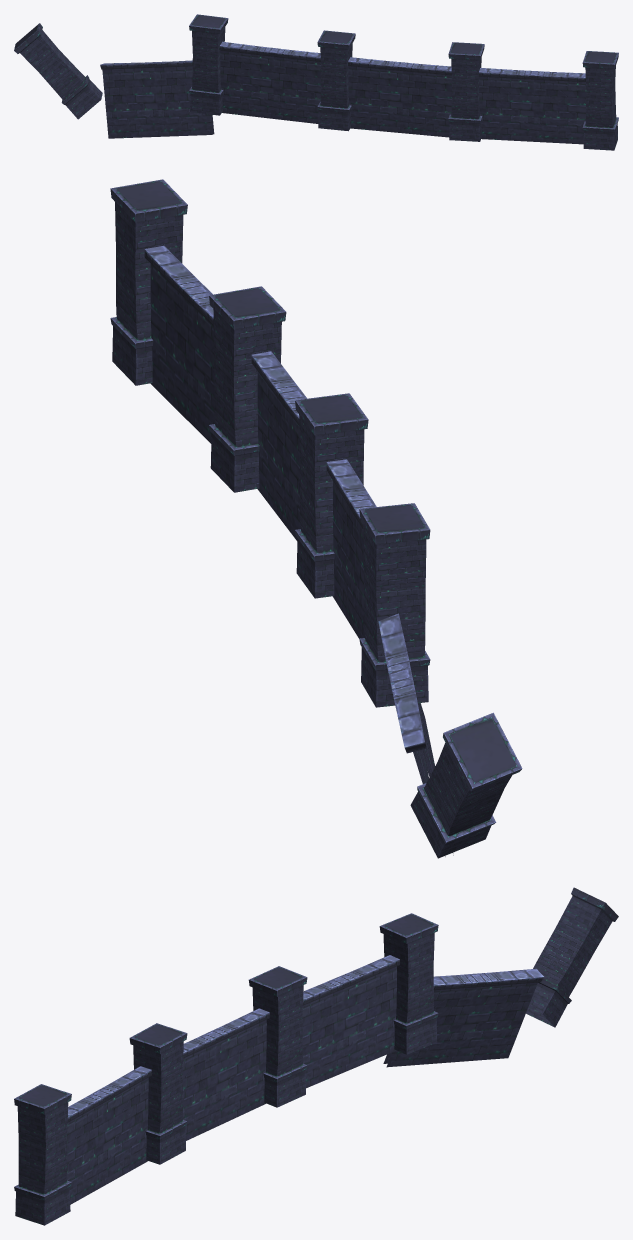
File: Area08_6.fbx
The picture shows the model from 3 angles, top to bottom: view 1: azimuth 30°, elevation 25°; view 2: azimuth 150°, elevation 25°; view 3: azimuth 270°, elevation 25°; orthographic projection. The views are drawn at different scales.
Parts seen in each view (by area): view 1: Area08_6; view 2: Area08_6; view 3: Area08_6.
Part boxes in pixels (x1,y1,x2,y2): Area08_6: (14, 14, 618, 150); Area08_6: (110, 179, 522, 858); Area08_6: (14, 887, 618, 1225).
Bounding box in the file's own units: 2838 × 856 × 2697.
